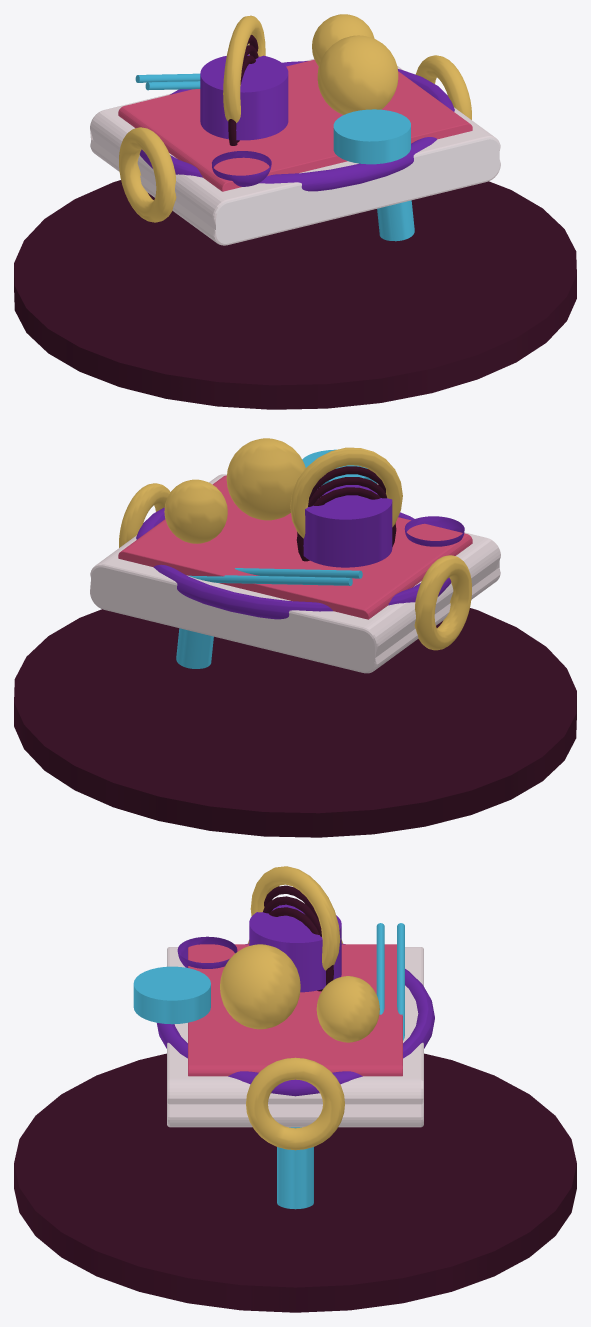
File: 0913_秦汉图鉴_始皇诏方升.glb
3 views of the same model, one above another, from view 1: azimuth 30°, elevation 25°; view 2: azimuth 150°, elevation 25°; view 3: azimuth 270°, elevation 25° (orthographic). The views are drawn at different scales.
Parts seen in each view (by area): view 1: card_0913; view 2: card_0913; view 3: card_0913.
Part boxes in pixels (left/top/right/bottom): card_0913: left=14, top=14, right=576, bottom=409; card_0913: left=14, top=438, right=576, bottom=837; card_0913: left=14, top=866, right=576, bottom=1312.
Bounding box in the file's own units: 1.82 × 1 × 1.74.
